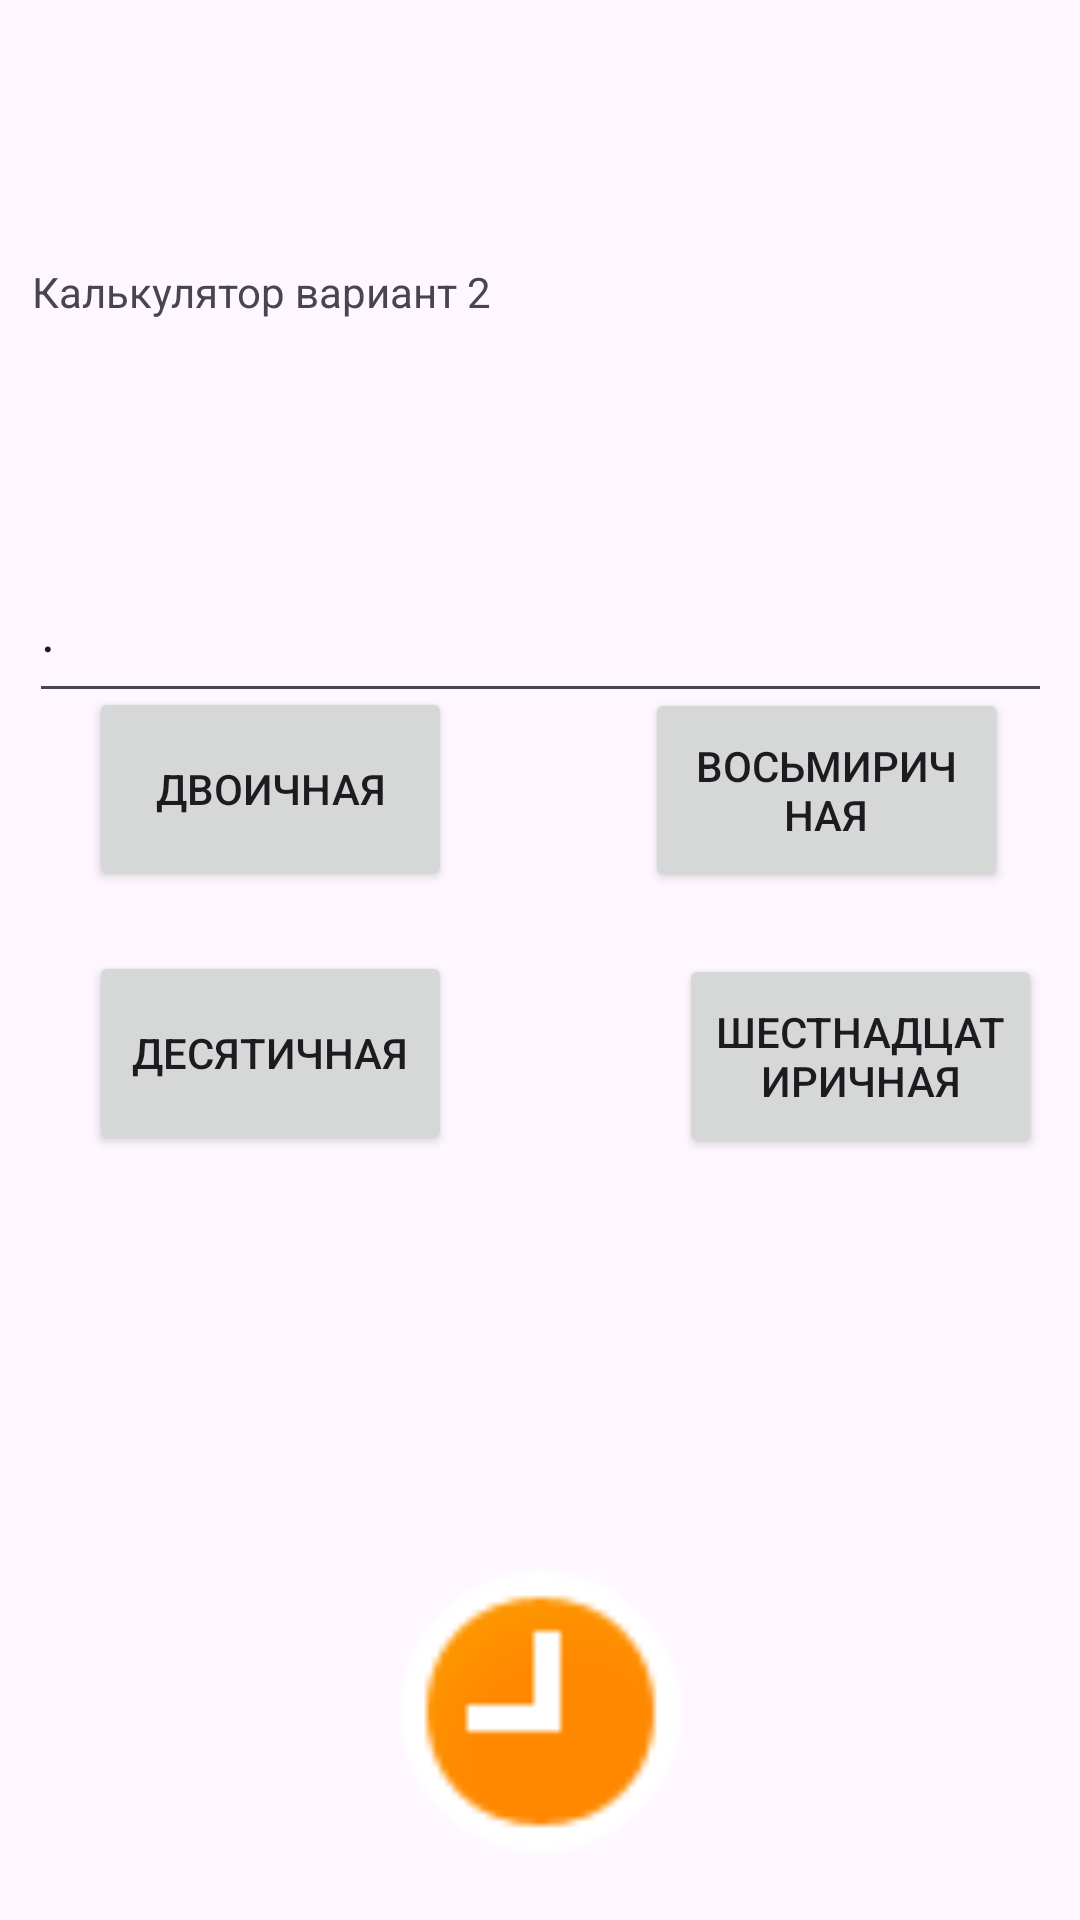

Point at icon controls on the screen. Image size 1080 × 1920, points as (x,y).
presence away: (540,1711)
